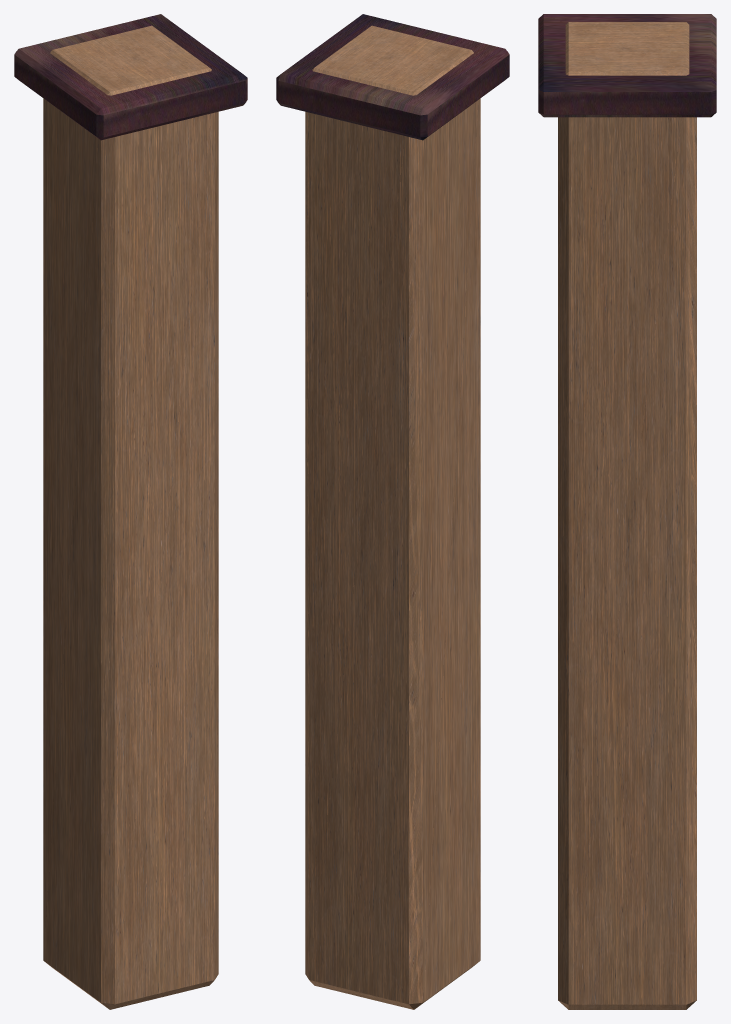
The model's file is pile29.obj.
3 renders of one model, left to right at view 1: azimuth 30°, elevation 25°; view 2: azimuth 150°, elevation 25°; view 3: azimuth 270°, elevation 25°, orthographic. The views are drawn at different scales.
Parts seen in each view (by area): view 1: Foundation_pile.001, Pile_cap.001; view 2: Foundation_pile.001, Pile_cap.001; view 3: Foundation_pile.001, Pile_cap.001.
Boxes of the visible parts, box(x1,y1,x2,y2) form: Foundation_pile.001: box(43, 25, 218, 1009); Pile_cap.001: box(14, 14, 247, 140); Foundation_pile.001: box(305, 25, 480, 1009); Pile_cap.001: box(276, 14, 509, 140); Foundation_pile.001: box(558, 22, 696, 1009); Pile_cap.001: box(538, 14, 716, 117).
Size of the model in its own units: 3.85 by 22.31 by 3.85.
Materials: 2 (2 with a texture image).
